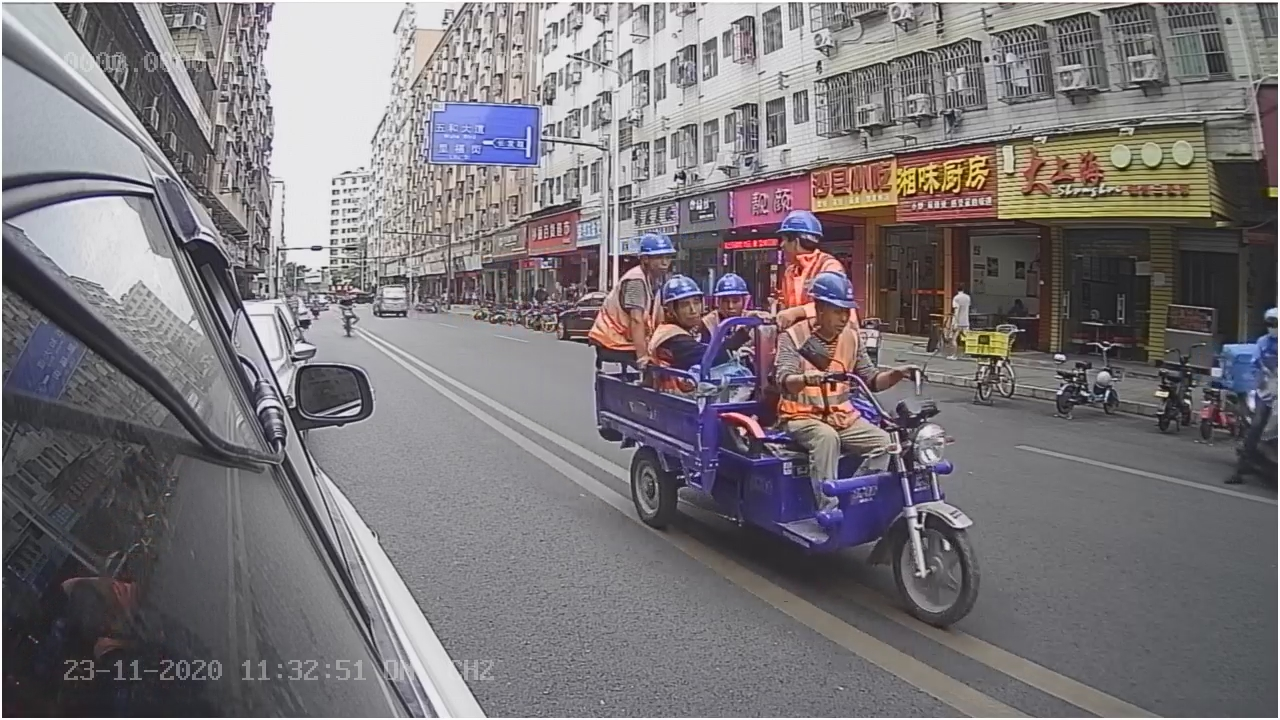person: (767, 270, 906, 399)
